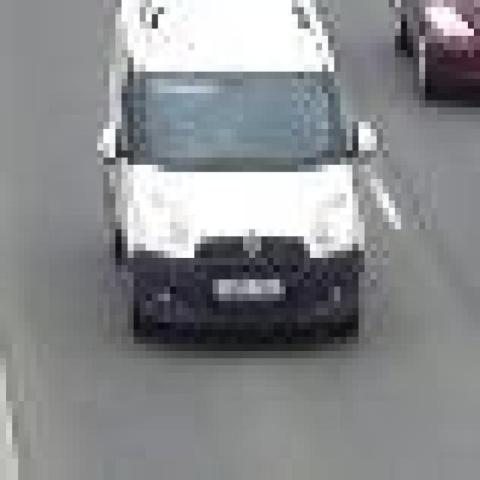van: (101, 0, 362, 344)
